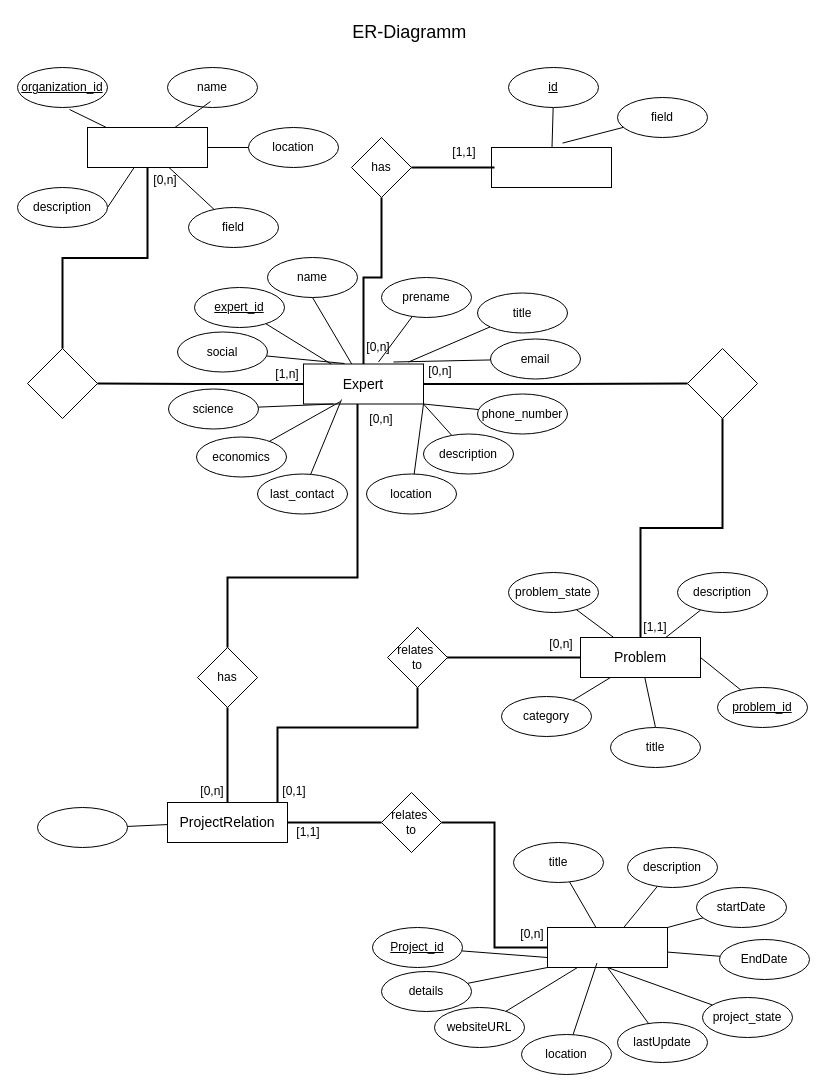
Image size: 827x1092. Some labels were removed from this diagram. The shapes that lost their labels are listed below. From the top down, each one's centre as x and y in pixels, then its label:
the point at 147,147: Organization
the point at 551,167: ExpertField
the point at 62,383: is related to
the point at 722,383: submits
the point at 82,827: role
the point at 607,947: Project
